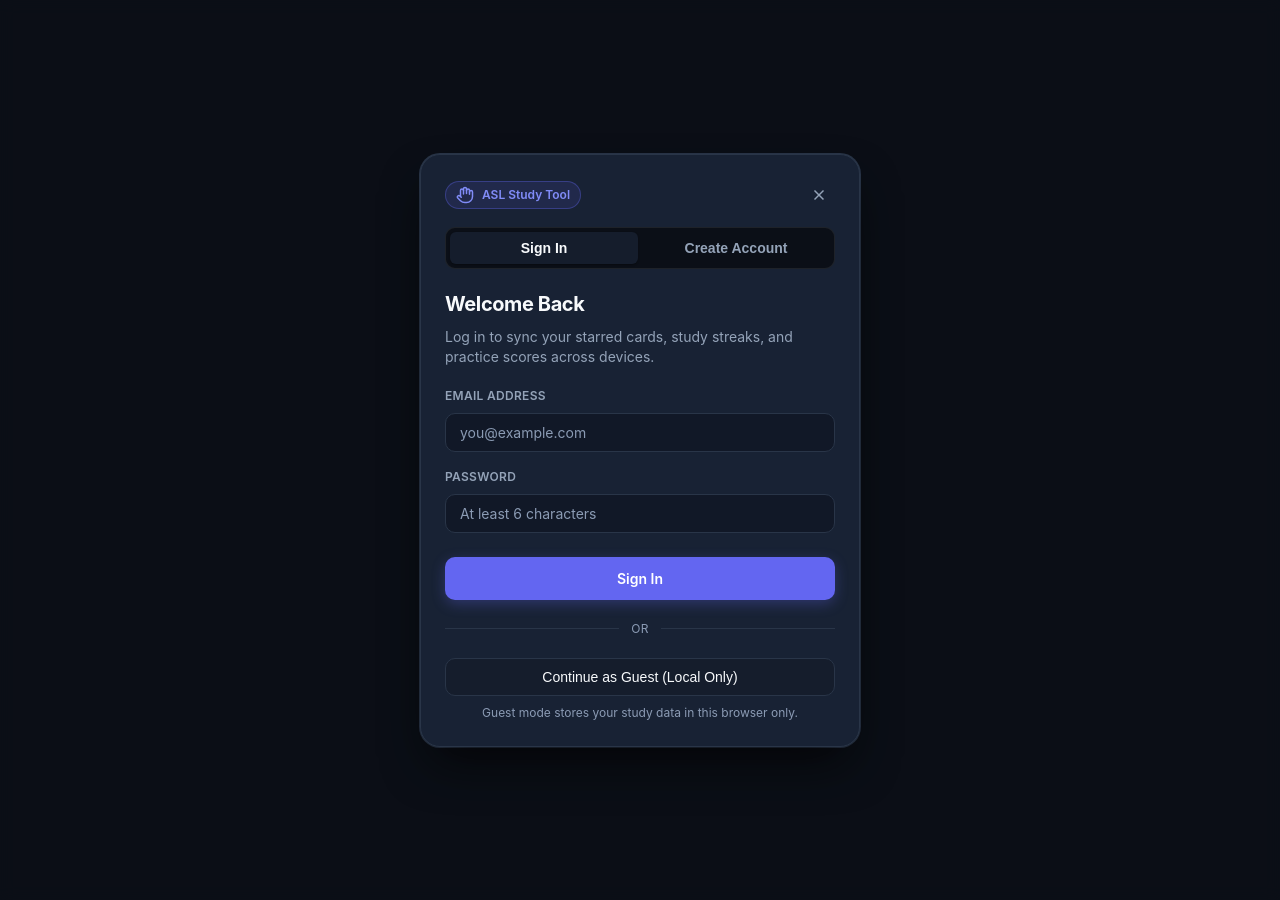
Test: AuthModal Component › validates minimum password length upon submission
In the field labelled "Email Address": (640, 432) [445,412,835,452], type "test@example.com"
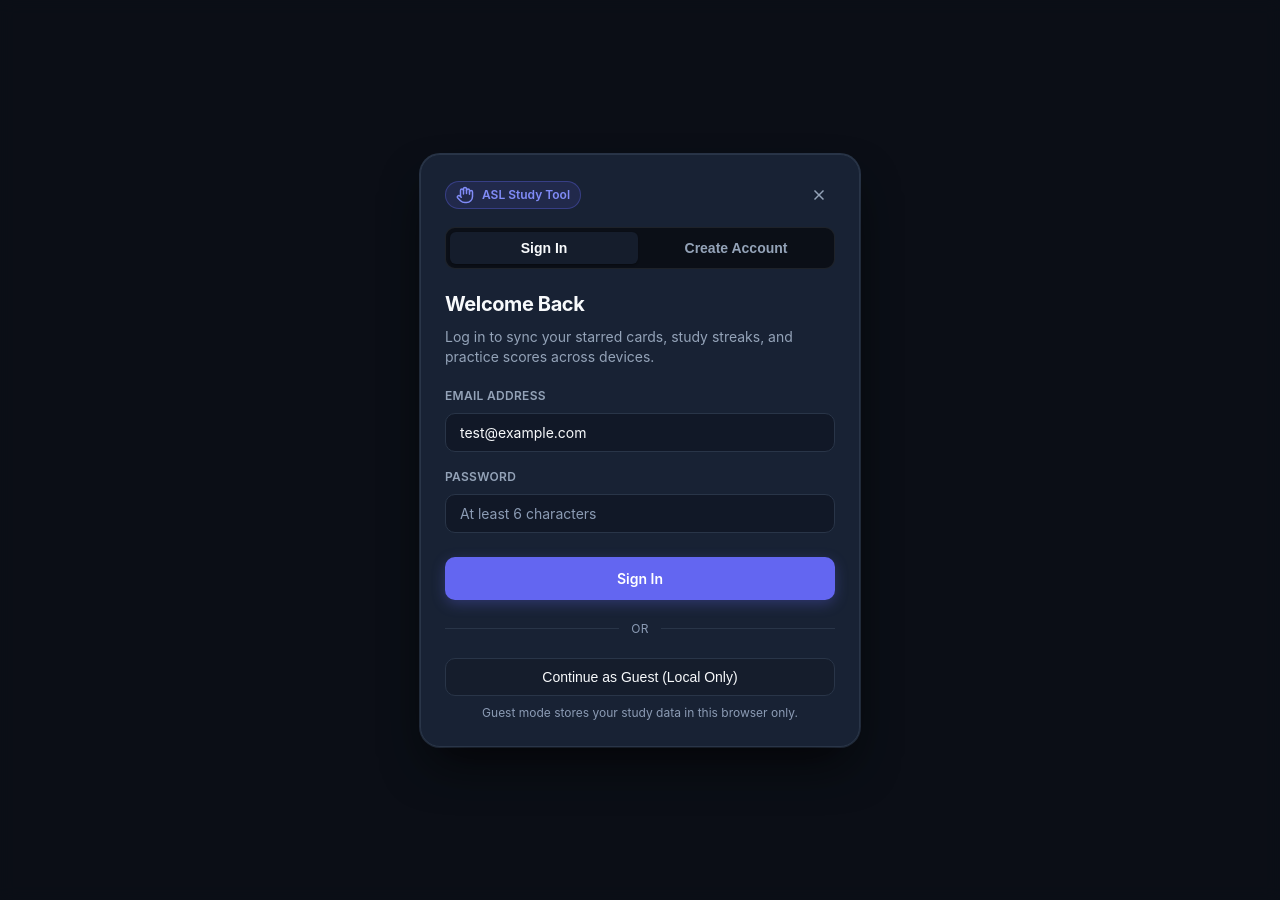
In the password field labelled "Password": (640, 513) [445,494,835,532], type "123"
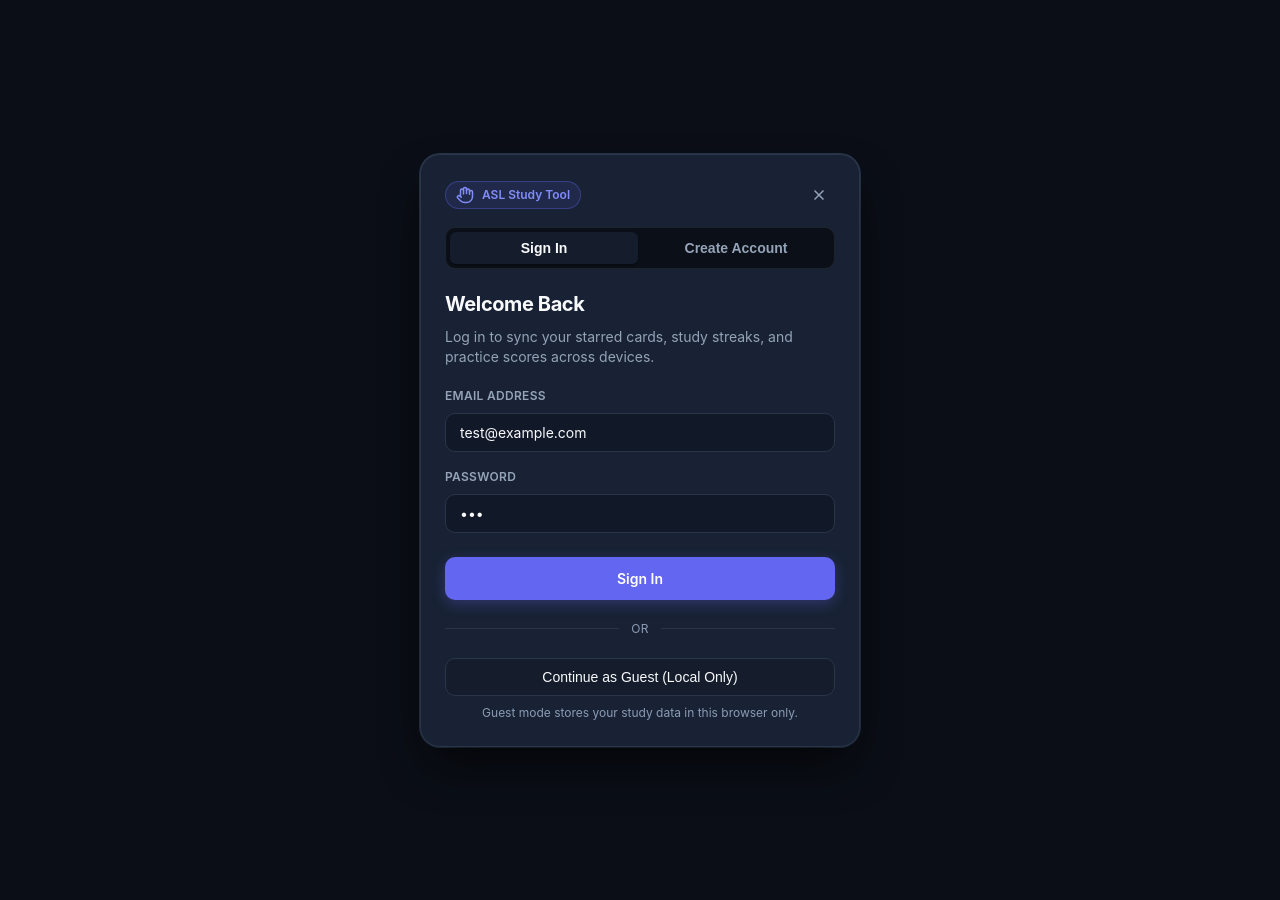
Click the button "Sign In": click(640, 578) [445,556,835,600]
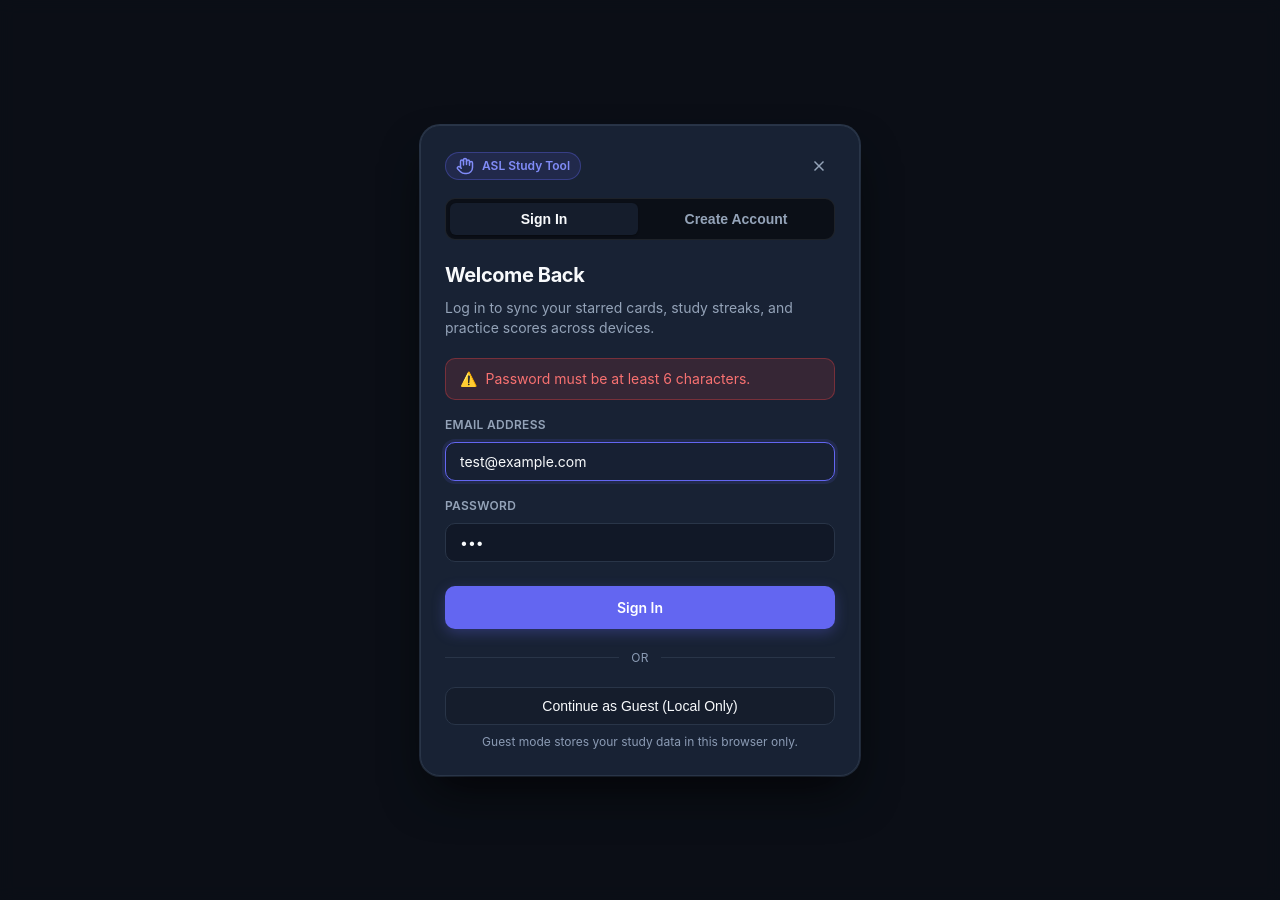
Result: the message shows "at least 6 characters" at [486,370,750,386]
